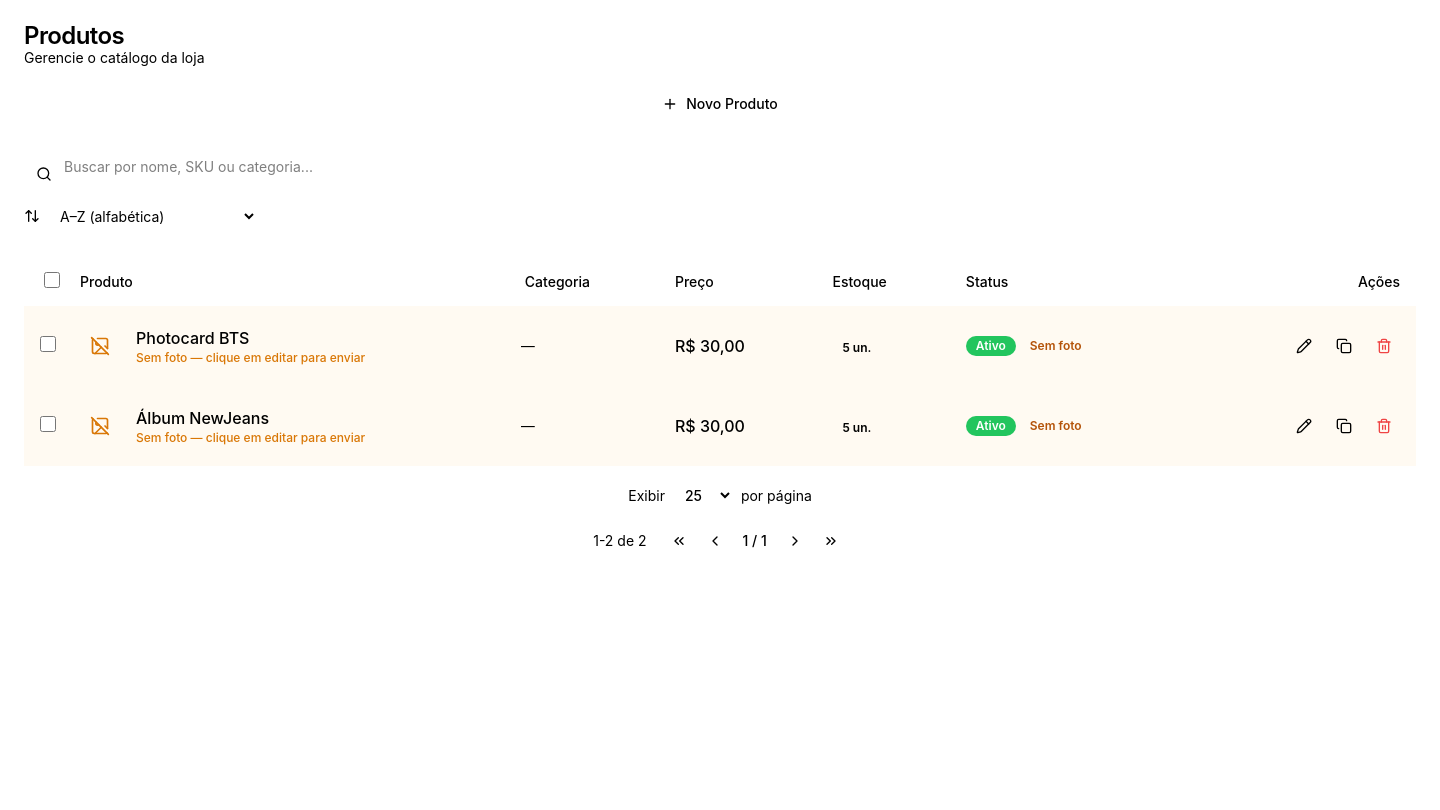
Test: ProductsTab — categoria em massa › drops the selection when the list is reloaded
This screenshot has width=1440, height=810.
Expected: the text "Photocard BTS" is shown, top-left (136, 328), bottom-right (249, 348)
Click the checkbox named "Selecionar Photocard BTS" at [48, 344], box top-left (40, 336), bottom-right (56, 352)
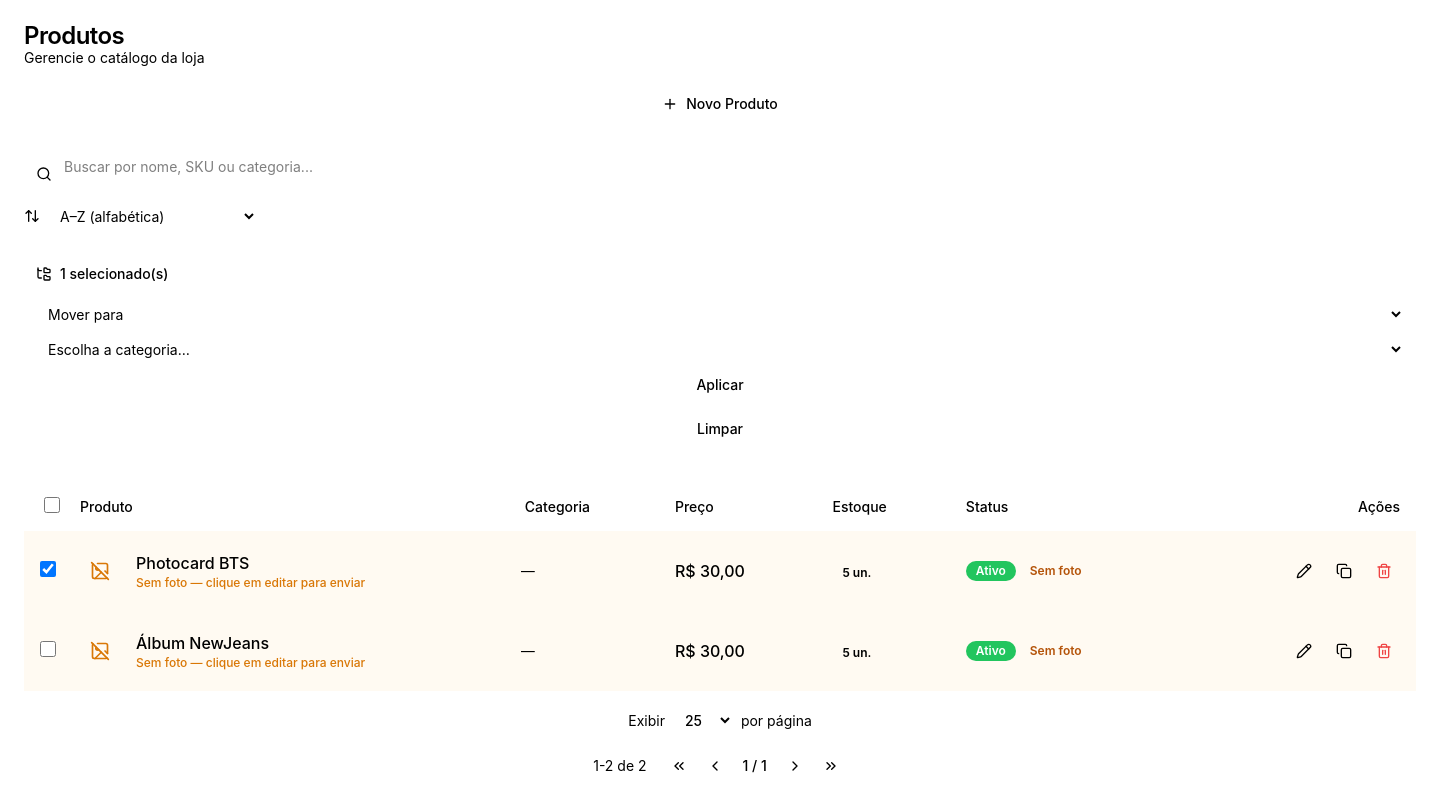
Expected: the text "1 selecionado(s)" is shown, top-left (36, 265), bottom-right (168, 282)
Type "newjeans" into the field with placeholder "Buscar por nome, SKU ou categoria..." at [720, 166], box top-left (24, 146), bottom-right (1416, 186)
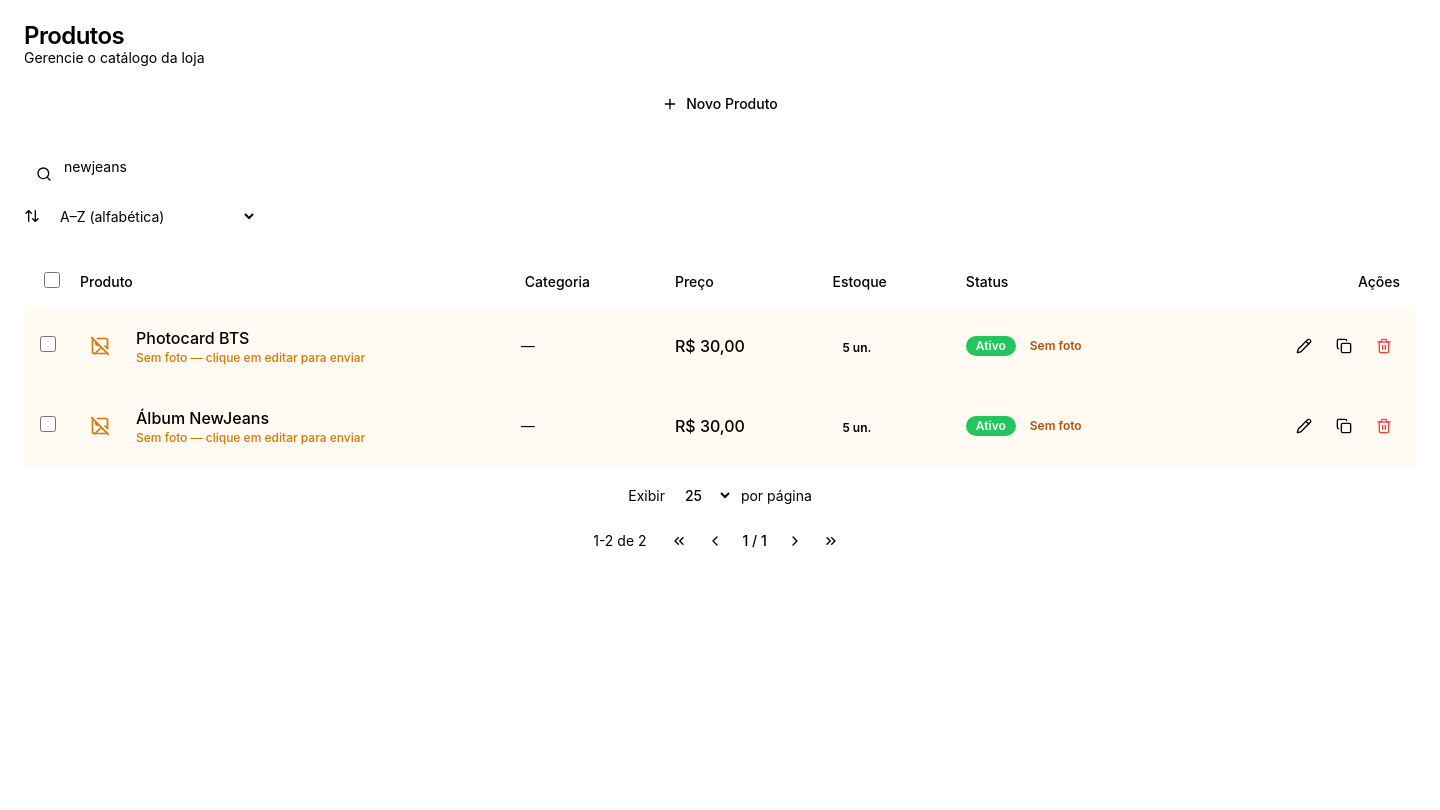
Expected: the text "selecionado(s)" is gone
